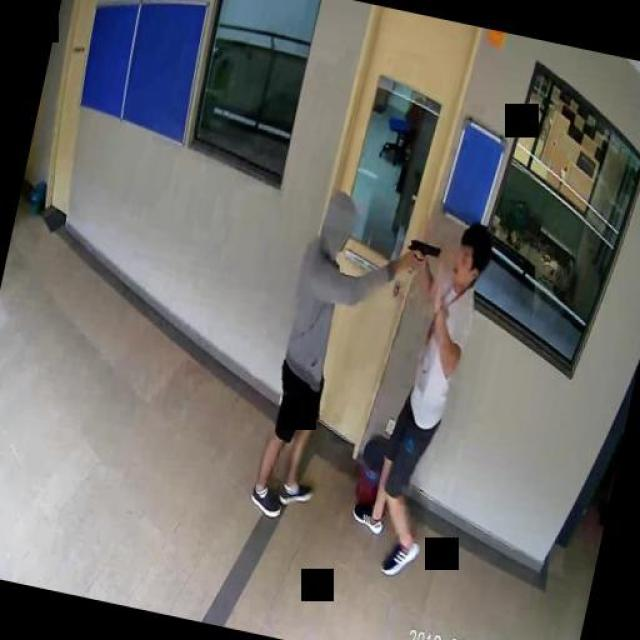gun: (404, 238, 440, 276)
